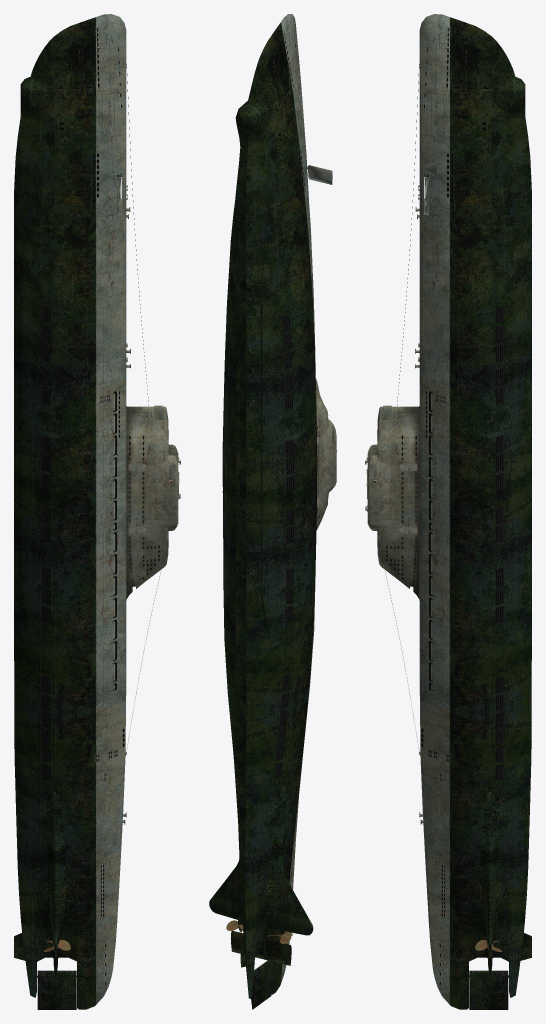
3 renders of one model, left to right at view 1: azimuth 90°, elevation 25°; view 2: azimuth 150°, elevation 25°; view 3: azimuth 270°, elevation 25°, orthographic. The views are drawn at different scales.
Parts seen in each view (by area): view 1: NSS_Uboat21; view 2: NSS_Uboat21; view 3: NSS_Uboat21.
Boxes of the visible parts, x1,y1,x2,y2 form: NSS_Uboat21: (14, 14, 180, 1009); NSS_Uboat21: (209, 14, 336, 1009); NSS_Uboat21: (365, 14, 531, 1009).
Size of the model in its own units: 0.865 by 7.69 by 1.17.
